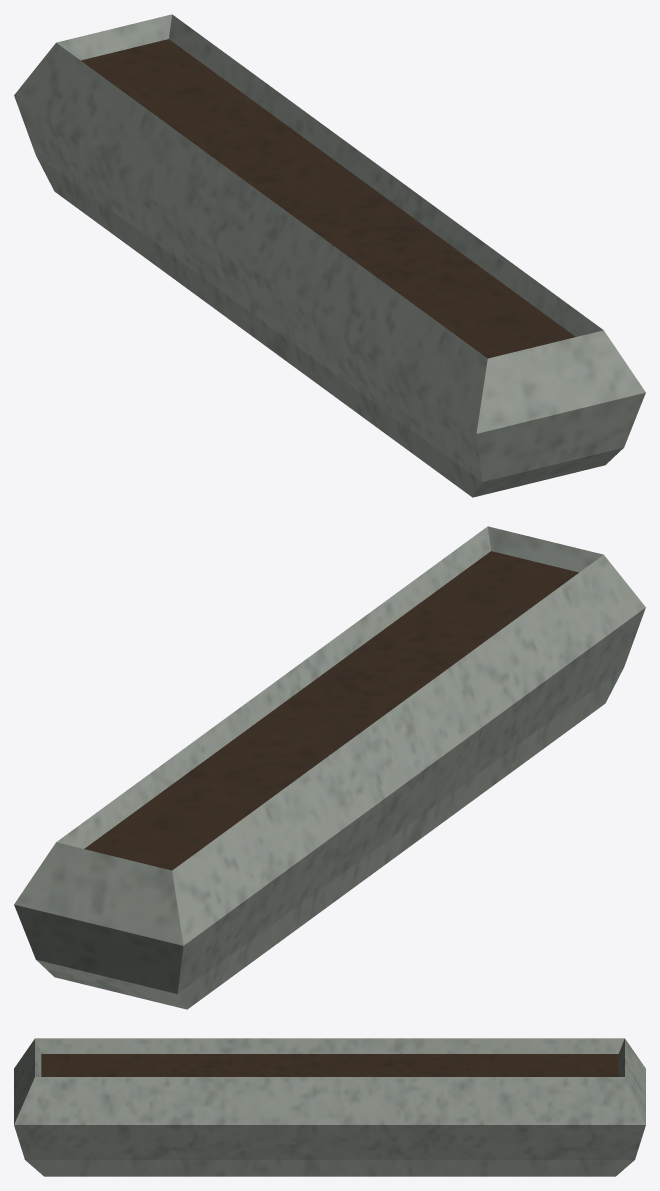
File: street_restaurant_flowerbedrectangle.FBX
3 views of the same model, one above another, from view 1: azimuth 30°, elevation 25°; view 2: azimuth 150°, elevation 25°; view 3: azimuth 270°, elevation 25° (orthographic). The views are drawn at different scales.
Parts seen in each view (by area): view 1: street_restaurant_flowerbedrectangle; view 2: street_restaurant_flowerbedrectangle; view 3: street_restaurant_flowerbedrectangle.
Boxes of the visible parts, x1,y1,x2,y2 form: street_restaurant_flowerbedrectangle: (14, 14, 645, 497); street_restaurant_flowerbedrectangle: (14, 526, 645, 1009); street_restaurant_flowerbedrectangle: (14, 1038, 645, 1176).
Size of the model in its own units: 27.49 by 22.01 by 130.
